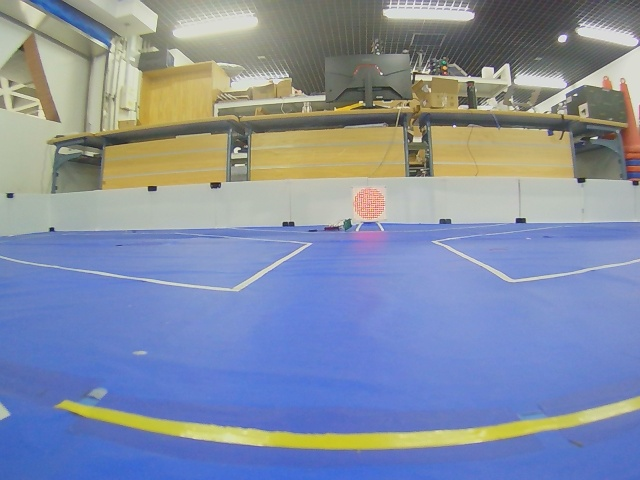red: (353, 187, 386, 222)
